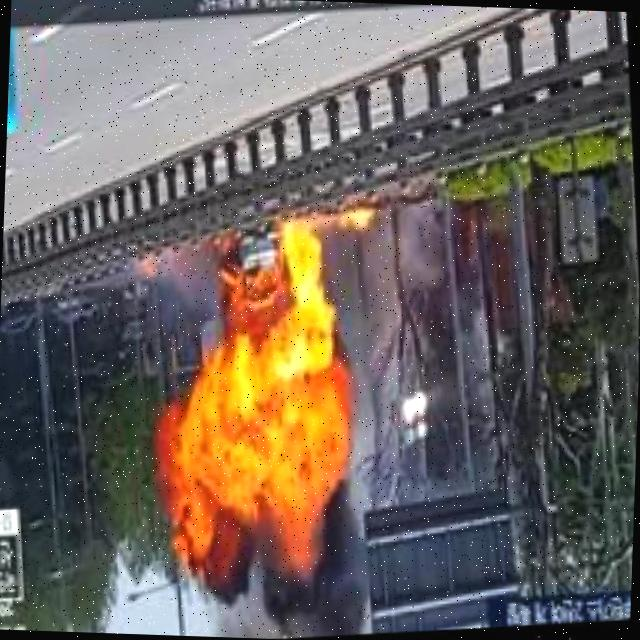fire: (143, 199, 364, 586), (346, 206, 383, 242)
